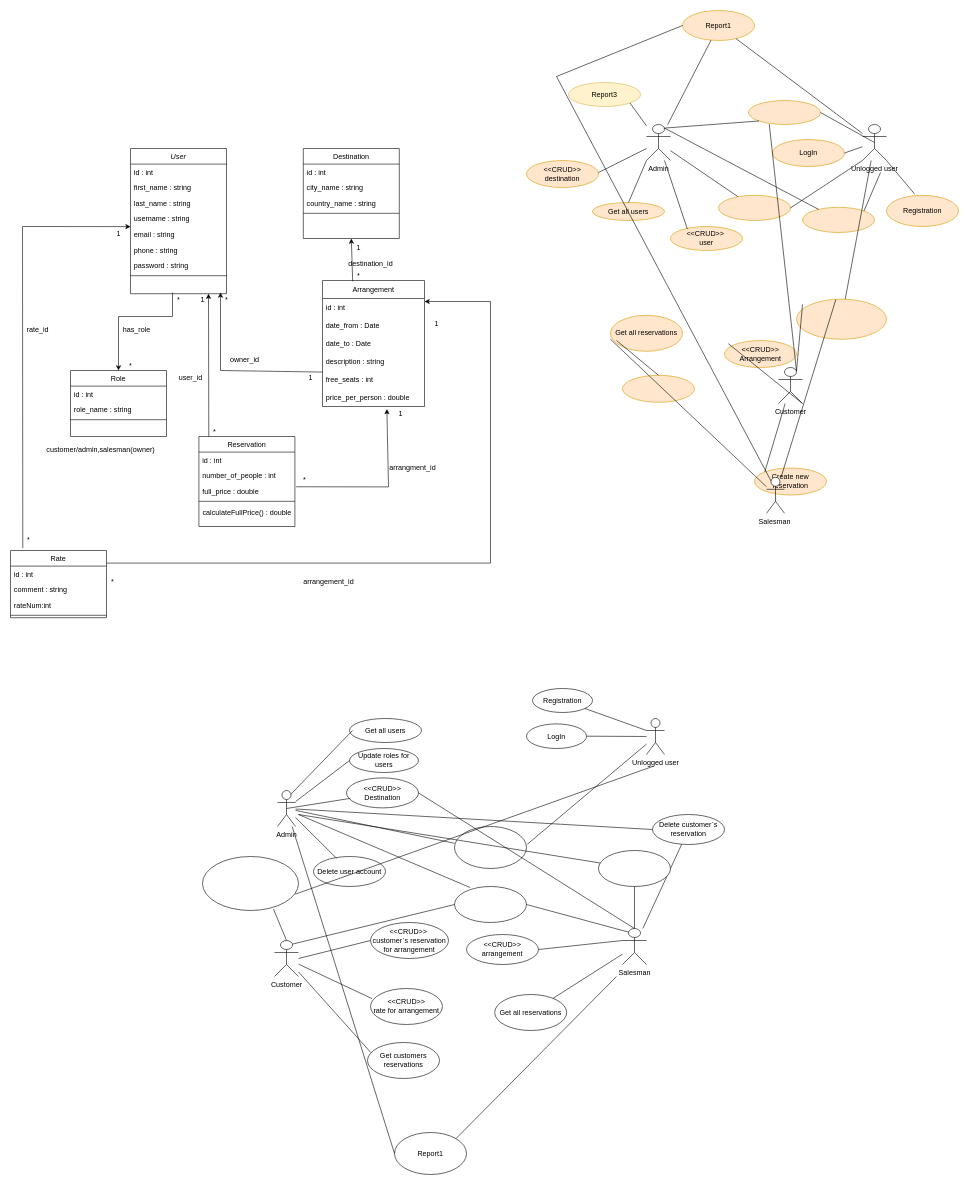
Image size: 969x1185. Some labels were removed from this diagram. The centre of each missing label's shape, as x and y in pixels:
<<CRUD>> rate: point (658, 388)
Get all arangements and it's rates: point (490, 847)
Get all arrangements: point (754, 207)
Get all arrangements between two dates for one/all destinations: point (841, 318)
Get all arrangements for one/all destinations between two dates (filter): point (250, 883)
Get all destinations: point (838, 219)
Get all rates: point (784, 112)
Report2: point (634, 868)
Update user account (not roles): point (490, 904)
